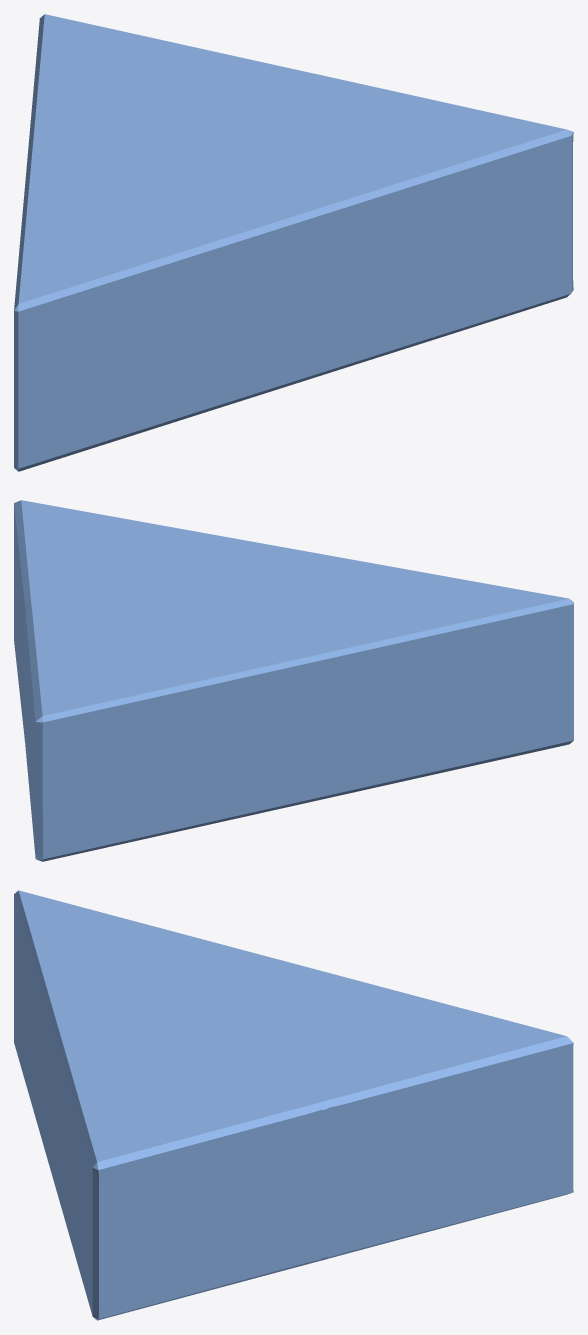
Rendered from Triangulo_02.fbx.
3 views of the same model, one above another, from view 1: azimuth 30°, elevation 25°; view 2: azimuth 150°, elevation 25°; view 3: azimuth 270°, elevation 25° (orthographic). The views are drawn at different scales.
Parts seen in each view (by area): view 1: polySurface54; view 2: polySurface54; view 3: polySurface54.
Boxes of the visible parts, <box> form: polySurface54: <box>14,14,573,471</box>; polySurface54: <box>14,500,573,861</box>; polySurface54: <box>14,890,573,1320</box>.
Bounding box in the file's own units: 4 × 1.06 × 3.41.
